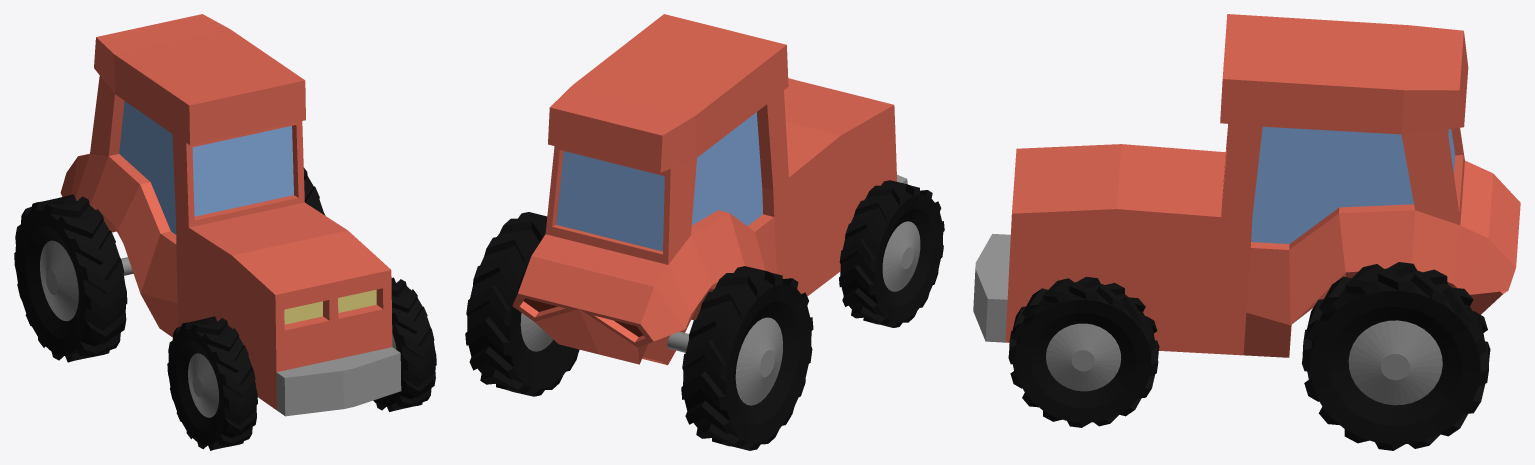
File: trator.fbx
3 views of the same model, side by side, from view 1: azimuth 30°, elevation 25°; view 2: azimuth 150°, elevation 25°; view 3: azimuth 270°, elevation 25° (orthographic). The views are drawn at different scales.
Visible parts, largest first — view 1: Cube.003; view 2: Cube.003; view 3: Cube.003.
Boxes of the visible parts, x1,y1,x2,y2 form: Cube.003: (14,14,436,450); Cube.003: (465,14,944,450); Cube.003: (973,14,1520,450).
Size of the model in its own units: 226 by 262 by 384.
